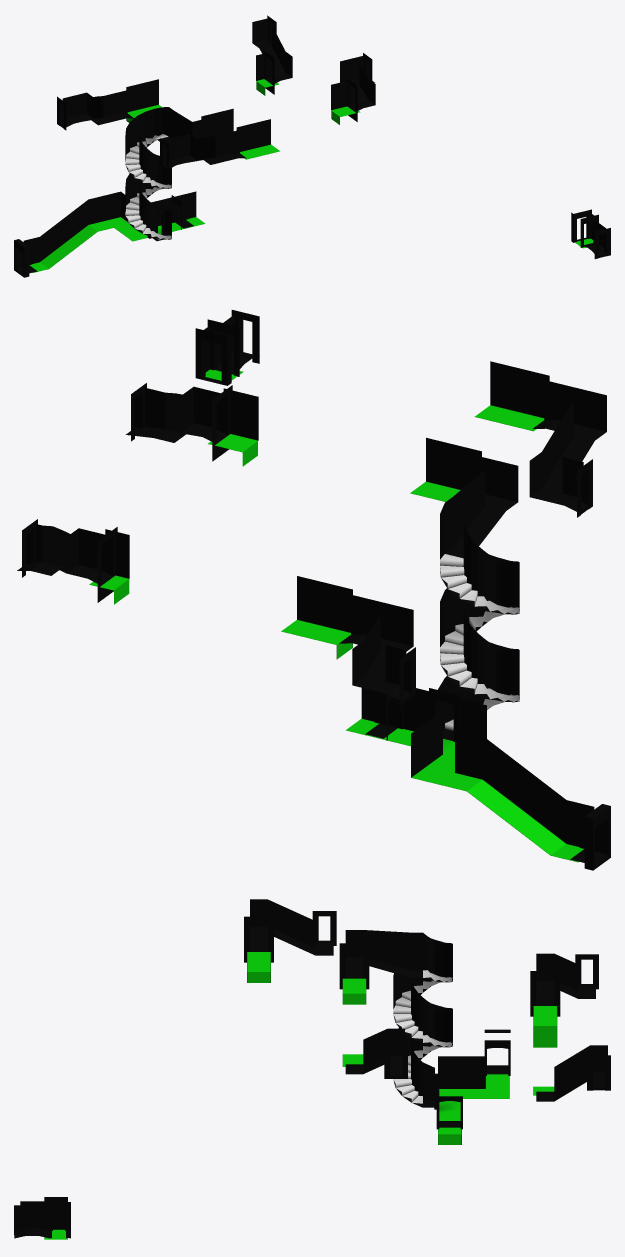
Rendered from corridors.glb.
3 renders of one model, top to bottom at view 1: azimuth 30°, elevation 25°; view 2: azimuth 150°, elevation 25°; view 3: azimuth 270°, elevation 25°, orthographic. The views are drawn at different scales.
Parts seen in each view (by area): view 1: Corridor_2, Corridor_3, Corridor_1, Corridor_4, Corridor_6, Corridor_2_Stair_Mesh, Corridor_5; view 2: Corridor_2, Corridor_3, Corridor_1, Corridor_4, Corridor_6, Corridor_2_Stair_Mesh, Corridor_5; view 3: Corridor_2, Corridor_3, Corridor_1, Corridor_6, Corridor_4, Corridor_5, Corridor_2_Stair_Mesh.
Boxes of the visible parts, left/top/right/bottom form: Corridor_2: left=14, top=107, right=233, bottom=277; Corridor_3: left=160, top=119, right=279, bottom=171; Corridor_1: left=57, top=79, right=161, bottom=130; Corridor_4: left=331, top=53, right=375, bottom=124; Corridor_6: left=252, top=15, right=292, bottom=95; Corridor_2_Stair_Mesh: left=125, top=134, right=171, bottom=239; Corridor_5: left=571, top=209, right=610, bottom=258; Corridor_2: left=346, top=437, right=610, bottom=870; Corridor_3: left=474, top=361, right=606, bottom=517; Corridor_1: left=281, top=576, right=415, bottom=705; Corridor_4: left=126, top=383, right=258, bottom=466; Corridor_6: left=17, top=519, right=129, bottom=604; Corridor_2_Stair_Mesh: left=440, top=554, right=519, bottom=730; Corridor_5: left=195, top=310, right=259, bottom=385; Corridor_2: left=339, top=930, right=510, bottom=1144; Corridor_3: left=244, top=899, right=336, bottom=982; Corridor_1: left=530, top=953, right=598, bottom=1047; Corridor_6: left=533, top=1045, right=610, bottom=1101; Corridor_4: left=342, top=1028, right=407, bottom=1078; Corridor_5: left=14, top=1197, right=70, bottom=1239; Corridor_2_Stair_Mesh: left=393, top=970, right=452, bottom=1103.
Bounding box in the file's own units: 49.77 × 21.51 × 50.03.
